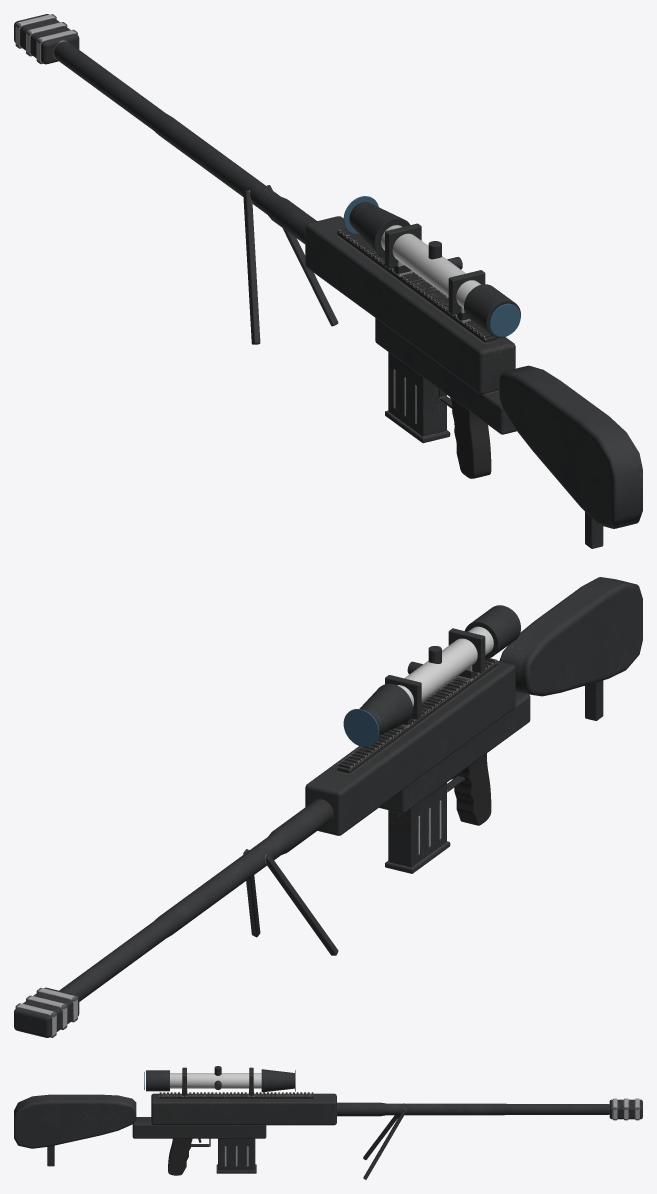
3 renders of one model, top to bottom at view 1: azimuth 30°, elevation 25°; view 2: azimuth 150°, elevation 25°; view 3: azimuth 270°, elevation 25°, orthographic. The views are drawn at different scales.
Parts seen in each view (by area): view 1: Frame, Stock, Mag_body, ScopeTube, ScopeLensR; view 2: Frame, Stock, Mag_body, ScopeTube, ScopeLensF; view 3: Frame, Stock, Mag_body, ScopeTube.
Part boxes in pixels (left/top/right/bottom): Frame: left=14, top=14, right=603, bottom=548; Stock: left=499, top=365, right=642, bottom=528; Mag_body: left=385, top=352, right=450, bottom=443; ScopeTube: left=381, top=225, right=480, bottom=308; ScopeLensR: left=489, top=303, right=520, bottom=336; Frame: left=14, top=605, right=603, bottom=1037; Stock: left=499, top=577, right=642, bottom=696; Mag_body: left=385, top=782, right=450, bottom=873; ScopeTube: left=397, top=626, right=493, bottom=706; ScopeLensF: left=343, top=709, right=379, bottom=746; Frame: left=47, top=1066, right=642, bottom=1179; Stock: left=14, top=1094, right=136, bottom=1148; Mag_body: left=216, top=1138, right=256, bottom=1173; ScopeTube: left=170, top=1073, right=261, bottom=1088.
Bounding box in the file's own units: 0.1389 × 0.3154 × 1.69.
